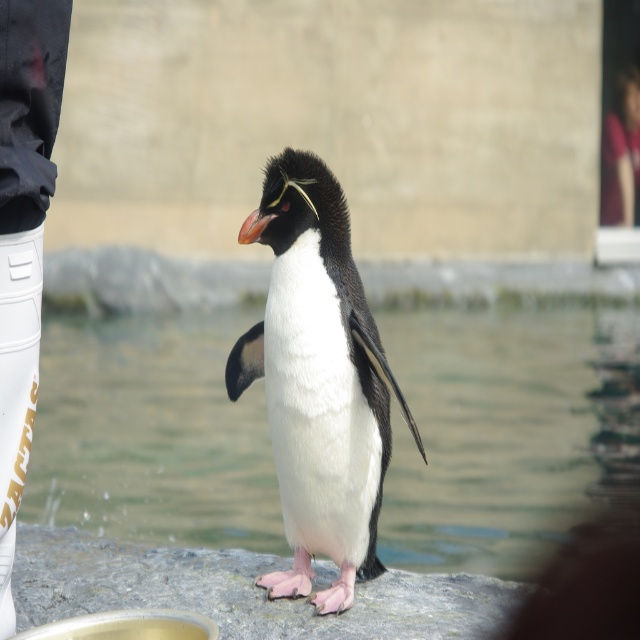Penguin: (202, 165, 439, 609)
